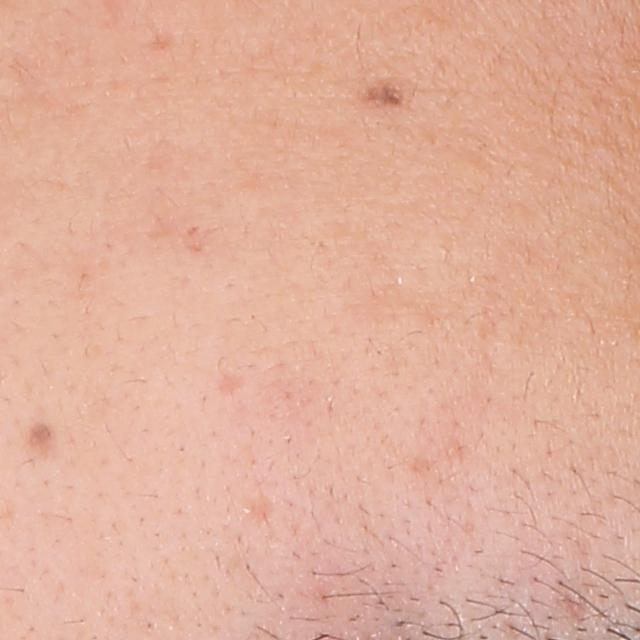atrophic_scar: (211, 367, 252, 400), (244, 496, 279, 526)
nevus: (364, 76, 411, 109), (25, 420, 55, 457)
